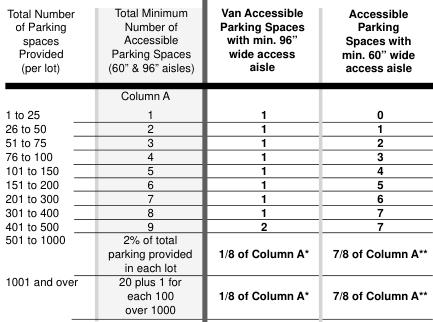table: (4, 3, 426, 316)
table column: (205, 3, 320, 316), (92, 3, 205, 316), (320, 3, 426, 316), (4, 3, 92, 316)
table column header: (4, 3, 426, 104)
table row: (4, 3, 426, 104), (4, 273, 426, 316), (4, 232, 426, 273), (4, 104, 426, 121), (4, 134, 426, 148), (4, 148, 426, 162), (4, 162, 426, 176), (4, 176, 426, 190), (4, 190, 426, 204), (4, 204, 426, 218), (4, 218, 426, 232), (4, 121, 426, 134)
